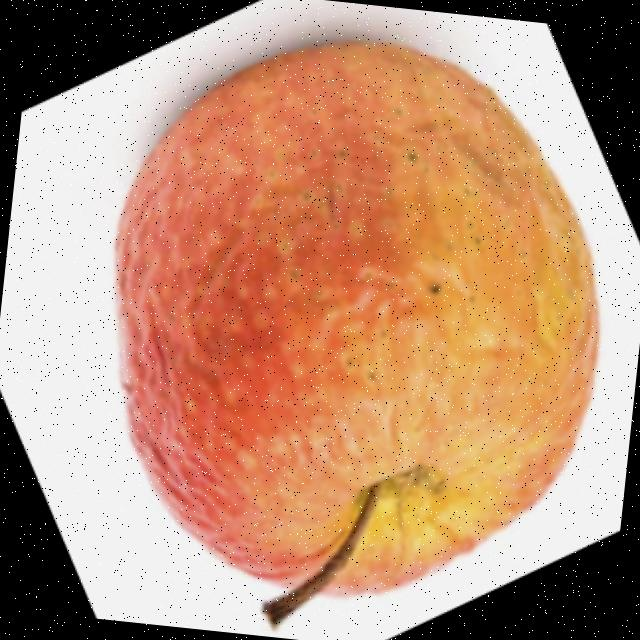overripe: (73, 10, 632, 628)
